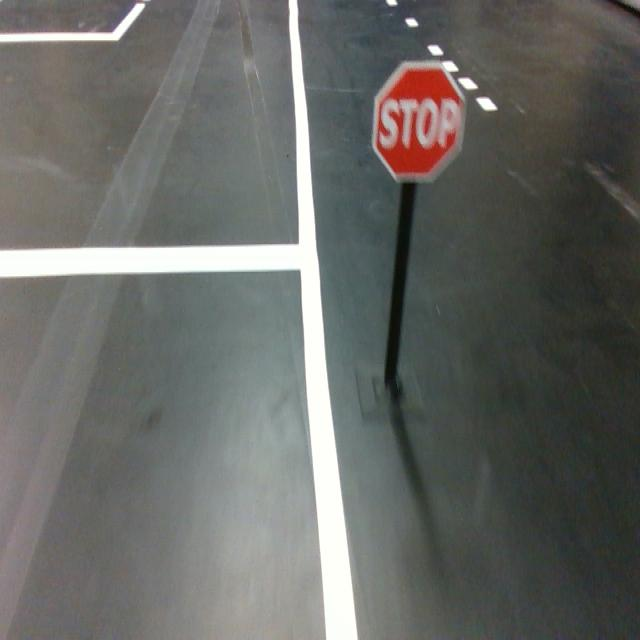stop-sign: (371, 61, 466, 184)
